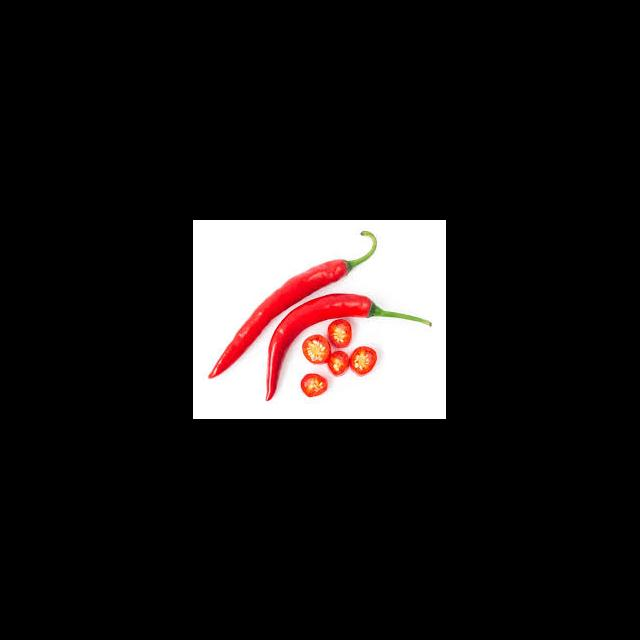chili_pepper: (208, 252, 392, 380), (348, 346, 378, 376)
